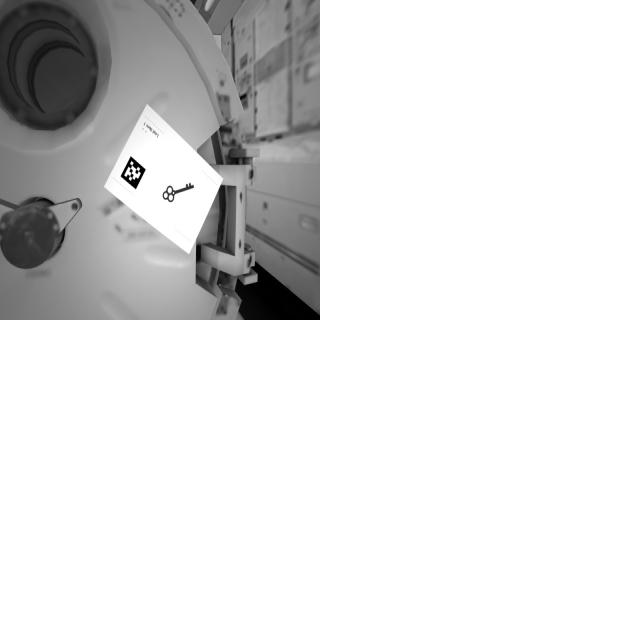key: (157, 175, 200, 210)
